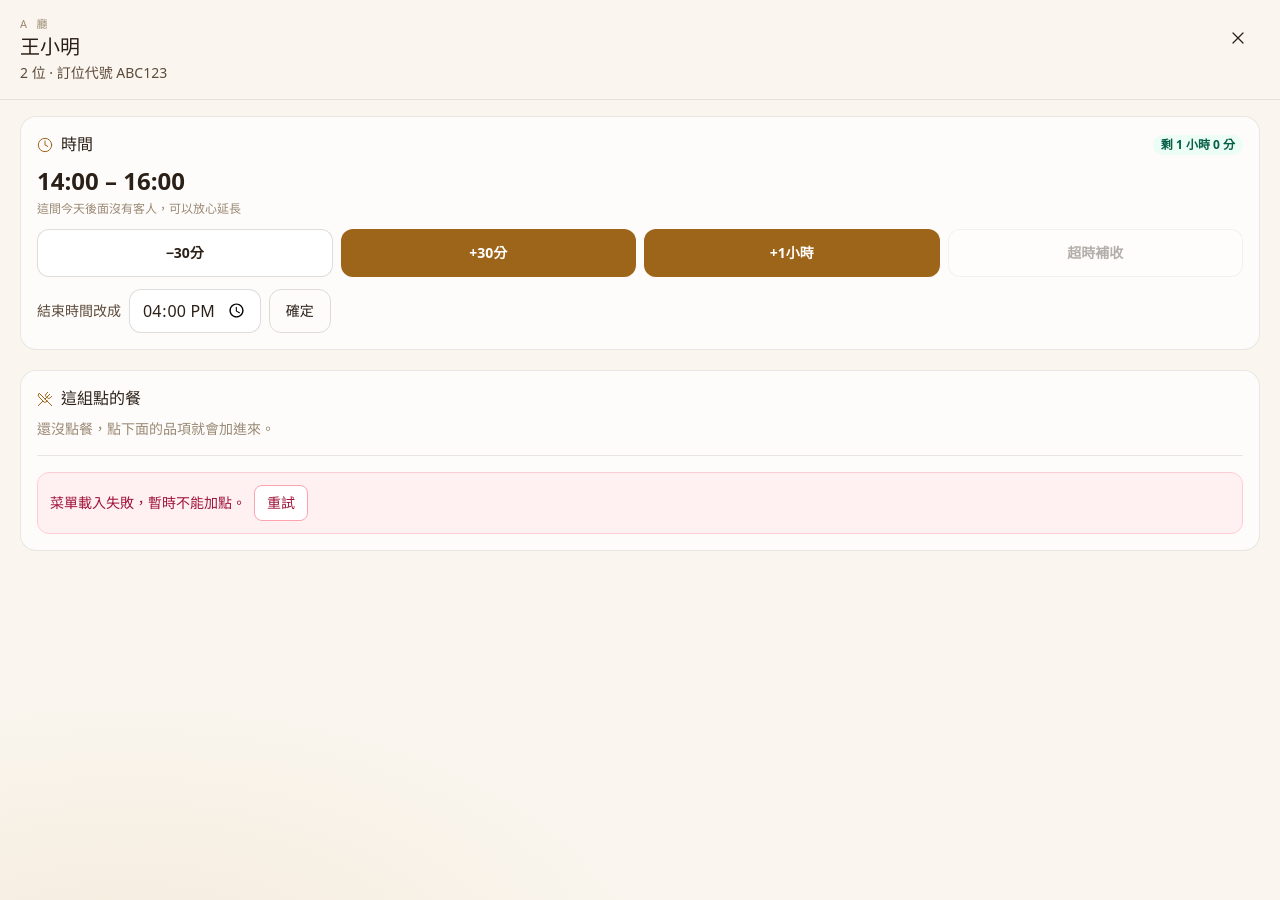
Test: RoomCheckoutPanel load failures › says the menu failed (with retry) instead of showing empty category tabs
The width and height of the screenshot is (1280, 900).
Expected: the text "菜單載入失敗，暫時不能加點。 重試" is shown, top-left (37, 472), bottom-right (1243, 534)
Click the button "重試".
click(281, 502)  # box top-left (254, 484), bottom-right (308, 520)
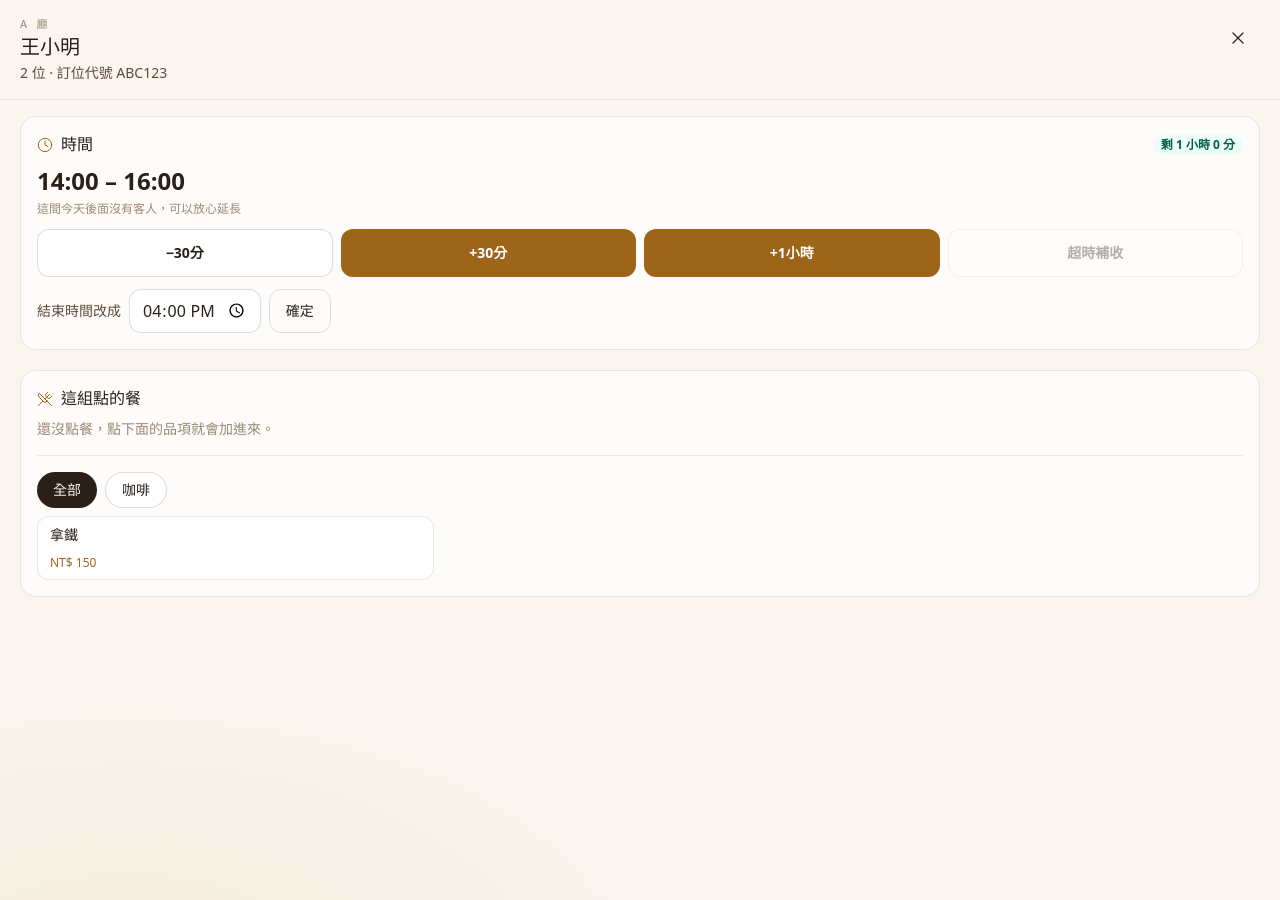
Expected: the element named "菜單種類" is shown, top-left (37, 472), bottom-right (167, 508)
Expected: the button "拿鐵 NT$ 150" is shown, top-left (37, 516), bottom-right (434, 580)
